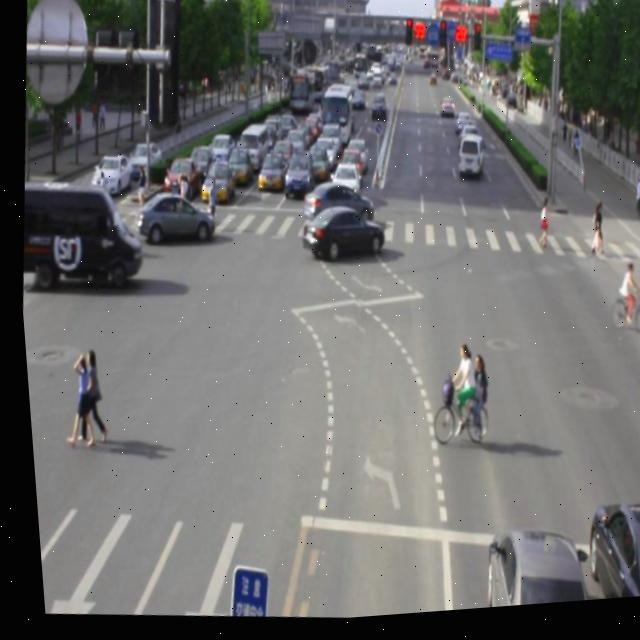car: (471, 524, 589, 614), (568, 503, 640, 609), (295, 205, 384, 268), (129, 189, 215, 251), (296, 180, 372, 233)
